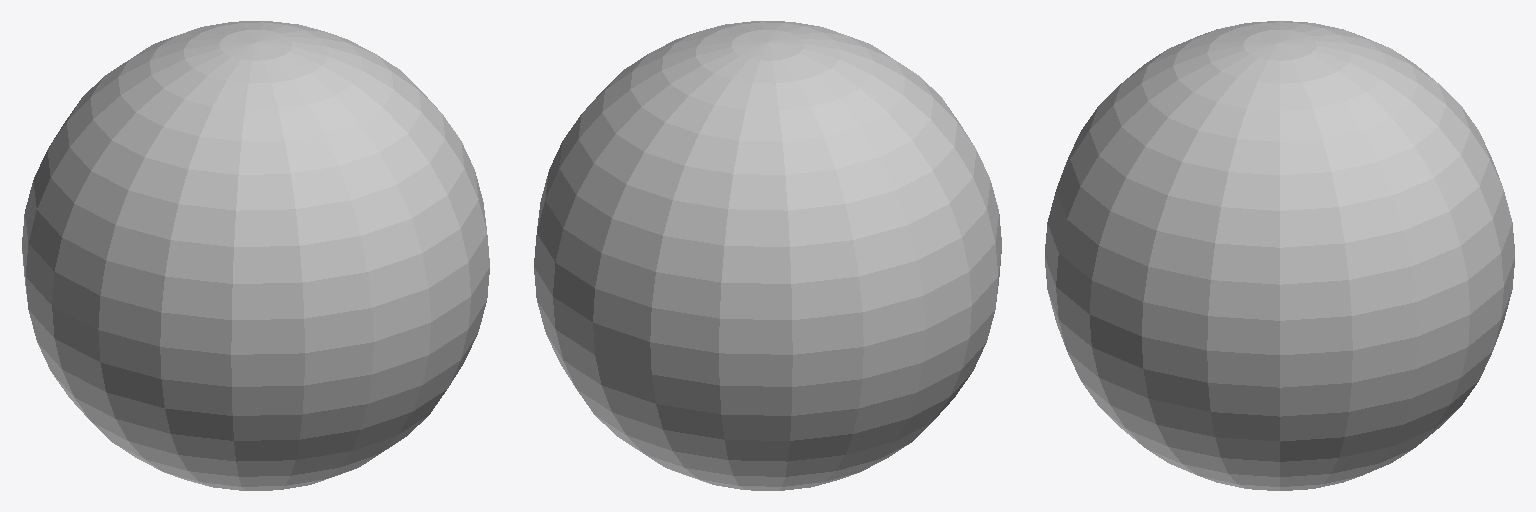
Rendered from player_Rarm_joint.obj.
3 views of the same model, side by side, from view 1: azimuth 30°, elevation 25°; view 2: azimuth 150°, elevation 25°; view 3: azimuth 270°, elevation 25° (orthographic).
Parts seen in each view (by area): view 1: pSphere3; view 2: pSphere3; view 3: pSphere3.
Boxes of the visible parts, <box> form: pSphere3: <box>22,21,489,490</box>; pSphere3: <box>534,21,1001,490</box>; pSphere3: <box>1045,21,1514,490</box>.
Size of the model in its own units: 0.3834 by 0.3834 by 0.3834.